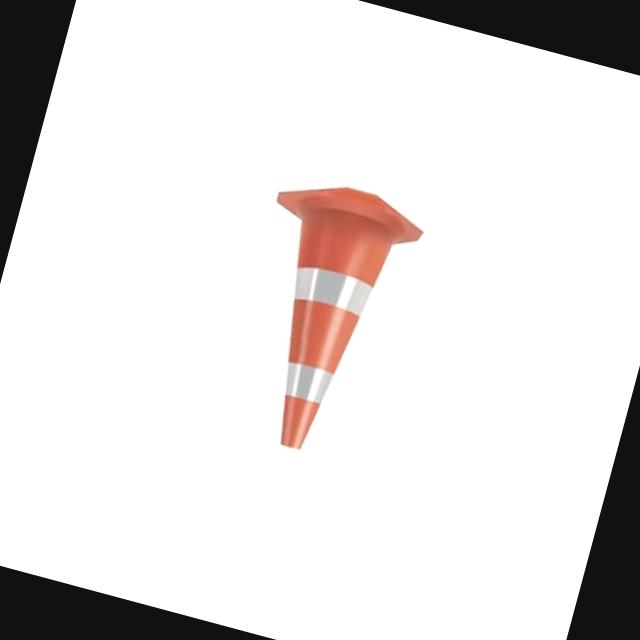cone: (210, 176, 433, 474)
